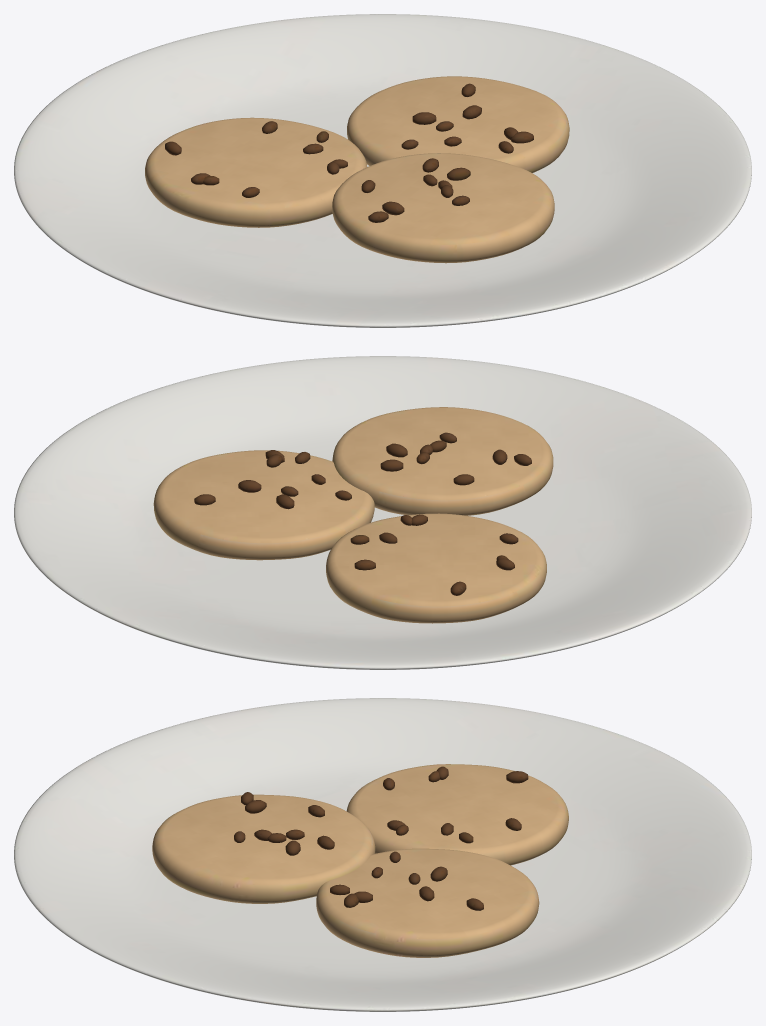
File: galleta-avena.glb
3 views of the same model, one above another, from view 1: azimuth 30°, elevation 25°; view 2: azimuth 150°, elevation 25°; view 3: azimuth 270°, elevation 25° (orthographic).
Parts seen in each view (by area): view 1: galleta-avena; view 2: galleta-avena; view 3: galleta-avena.
Part boxes in pixels (bbox=[...]): galleta-avena: bbox=[14, 14, 751, 327]; galleta-avena: bbox=[14, 356, 751, 669]; galleta-avena: bbox=[14, 698, 751, 1011].
Size of the model in its own units: 0.2576 by 0.0218 by 0.2576.
1 material, 1 textured.
